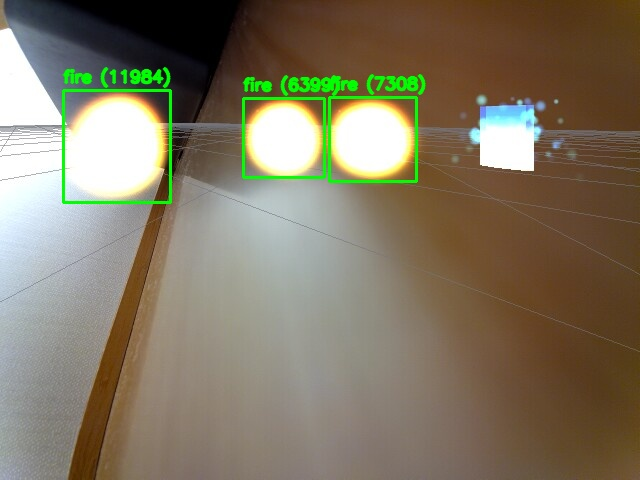fire: (63, 90, 170, 202), (329, 97, 416, 181), (243, 98, 324, 177)
